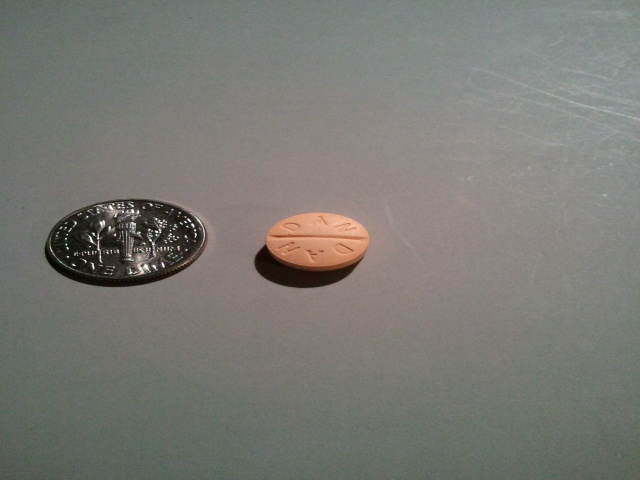A: (305, 245, 328, 265), (307, 213, 331, 232)
D: (281, 218, 303, 234), (334, 243, 354, 257)
N: (272, 240, 300, 258), (331, 221, 355, 235)
|: (261, 231, 374, 244)
